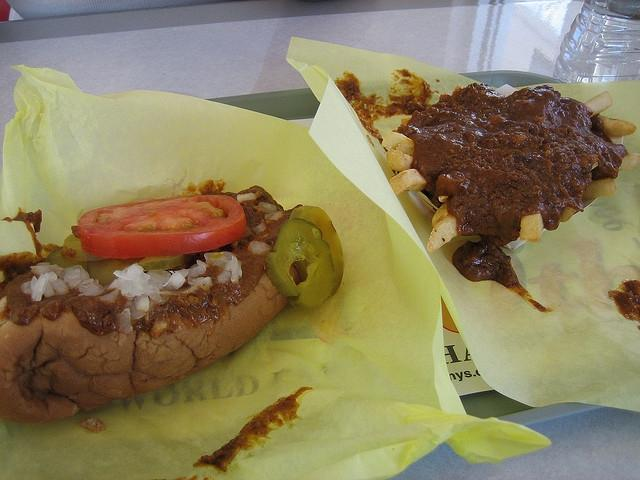onion: (118, 280, 145, 300), (139, 283, 162, 304), (31, 272, 45, 302), (163, 272, 186, 290), (146, 270, 172, 284), (134, 294, 149, 312), (51, 280, 70, 294), (31, 264, 64, 272), (231, 255, 239, 284), (218, 270, 231, 284), (212, 260, 226, 270), (48, 272, 58, 282), (80, 282, 96, 288), (156, 283, 163, 290), (168, 270, 174, 274)
tomato: (77, 194, 246, 259)
